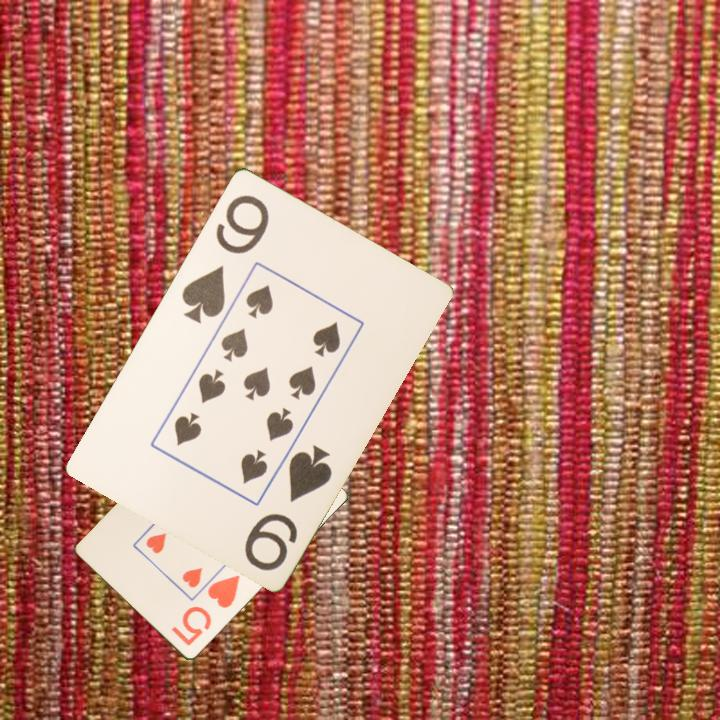5h: (167, 572, 243, 650)
9s: (177, 190, 272, 326), (240, 440, 335, 574)
